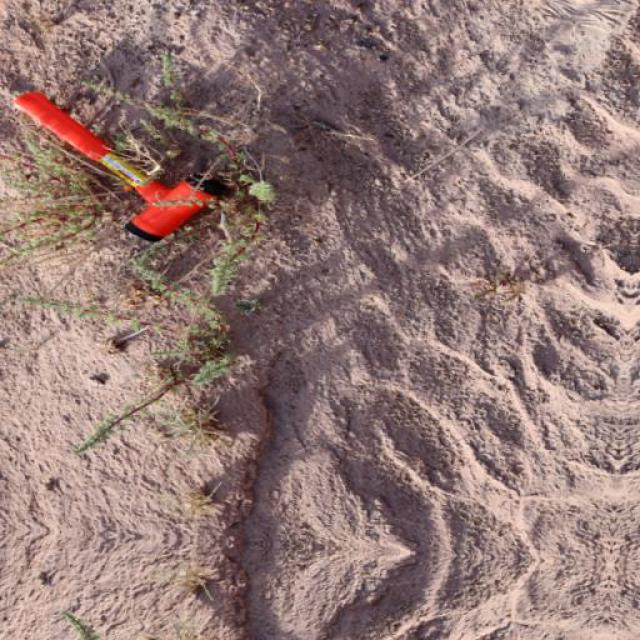mallet: (10, 88, 225, 244)
